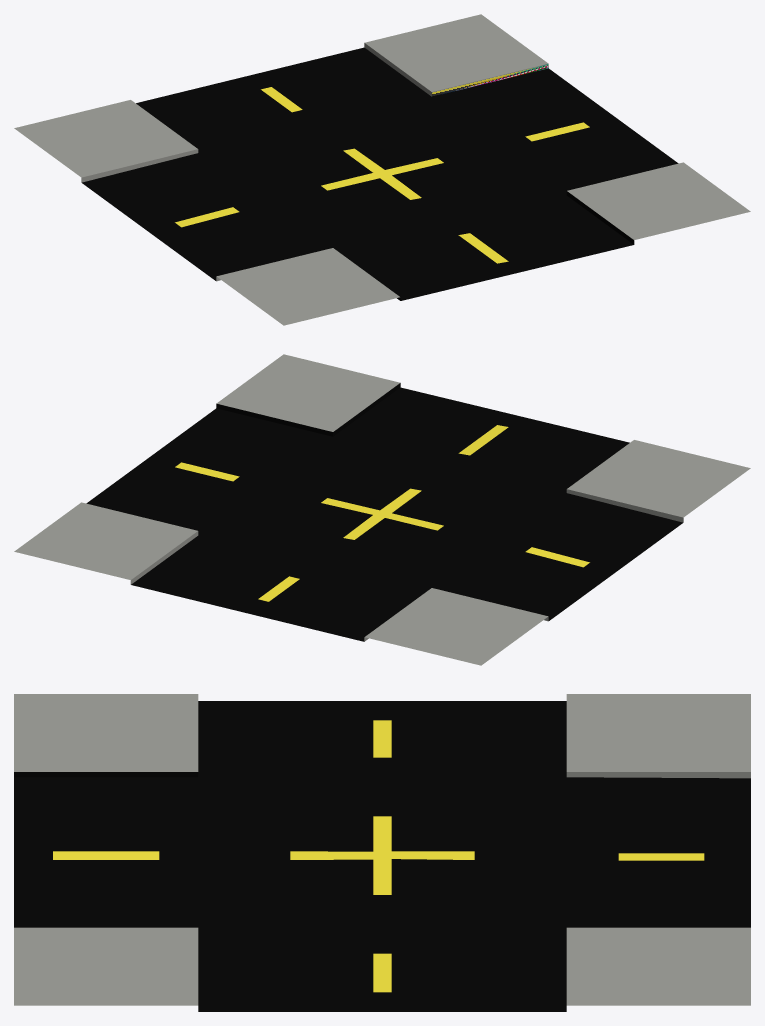
The model's file is ruax.gltf.
3 renders of one model, top to bottom at view 1: azimuth 30°, elevation 25°; view 2: azimuth 150°, elevation 25°; view 3: azimuth 270°, elevation 25°, orthographic. The views are drawn at different scales.
Visible parts, largest first — view 1: ruat; view 2: ruat; view 3: ruat.
Part boxes in pixels (left/top/right/bottom): ruat: left=14, top=14, right=750, bottom=325; ruat: left=14, top=354, right=750, bottom=665; ruat: left=14, top=694, right=750, bottom=1011.
Bounding box in the file's own units: 8 × 0.0835 × 8.
1 material, 1 textured.
